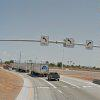Car: (44, 66, 66, 82)
